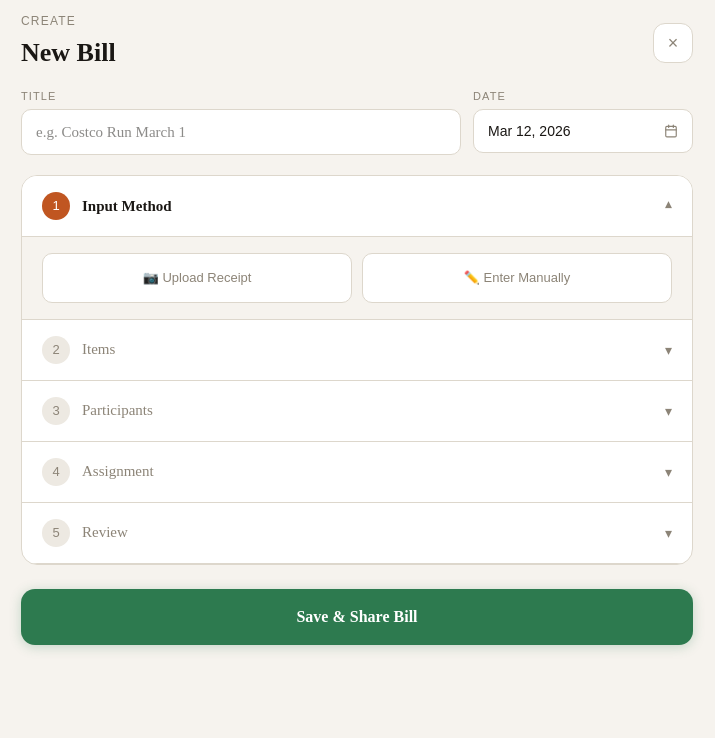
Test: BillForm component › adds item when Add Item button clicked
# Select manual input method (automatically advances to items section)
Click the button with test id "input-method-manual" at (517, 278), box [362,253,672,302]
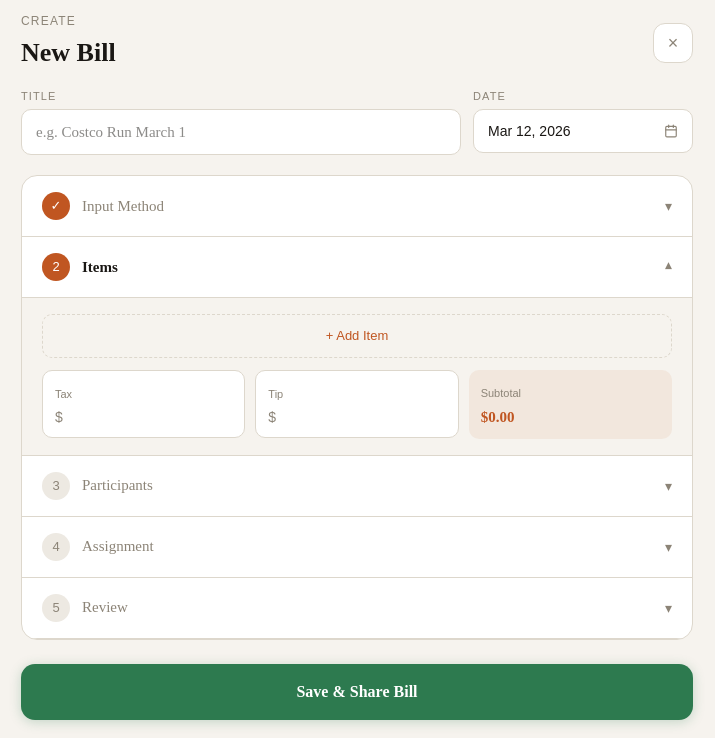
# Wait for add button to be available in expanded items section
Click the button with test id "add-item-button" at (357, 336), box [42,314,672,358]
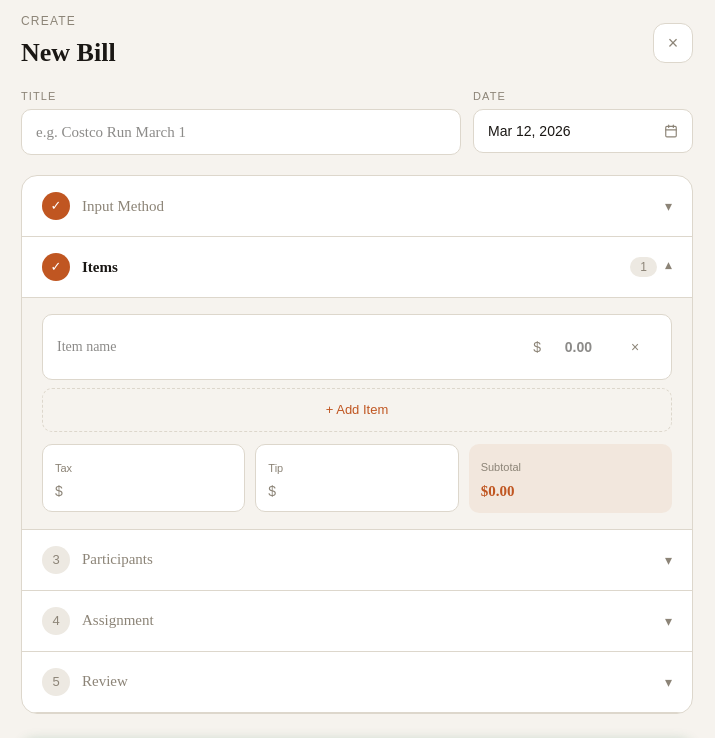
Now the field with test id "item-name-0" is shown, box [57,337,525,357]
Now the number field with test id "item-price-0" is shown, box [547,337,607,357]
